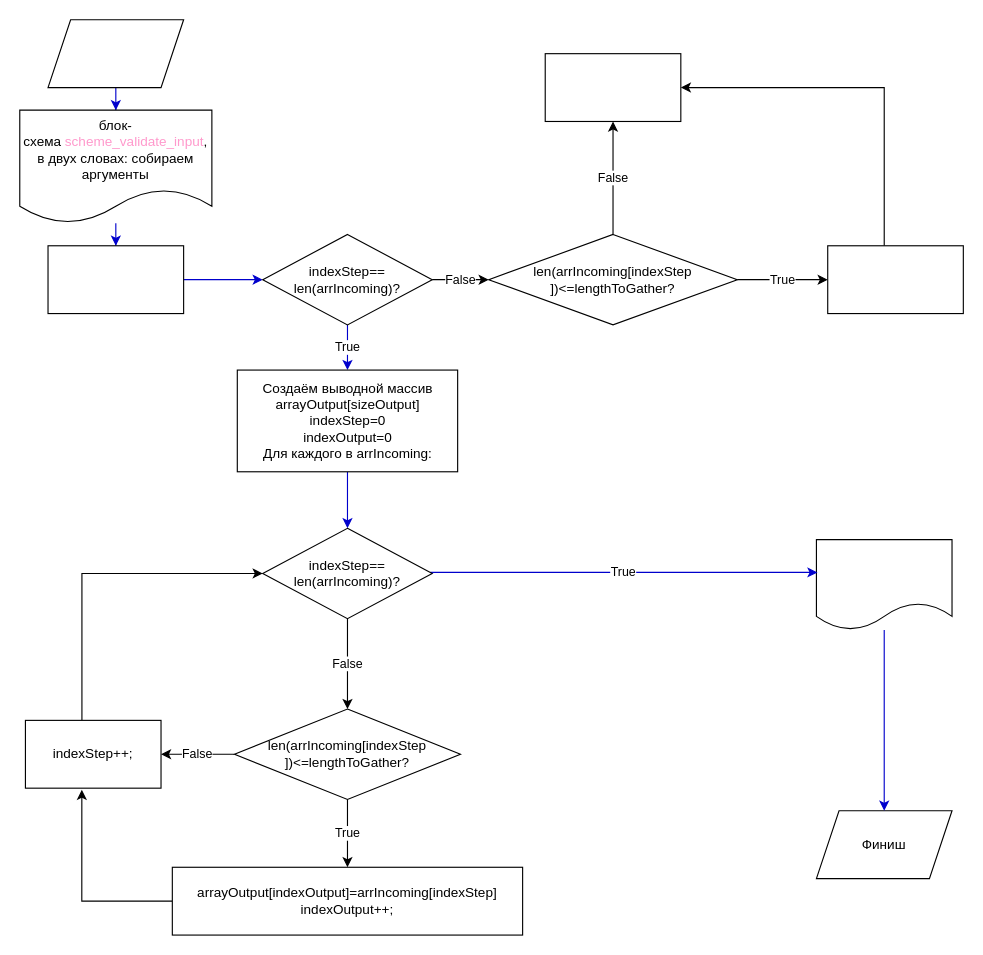
This 983x955 diagram has some shape labels left out. The centre of each missing label's shape, as x and y in pixels:
"indexStep++" goes at [612,87].
"sizeOutput++" goes at [895,279].
"sizeOutput=0 indexStep=0 Для каждого в arrIncoming:" goes at [115,279].
"Выводим массив на экран" goes at [883,584].
"Старт" goes at [115,53].
